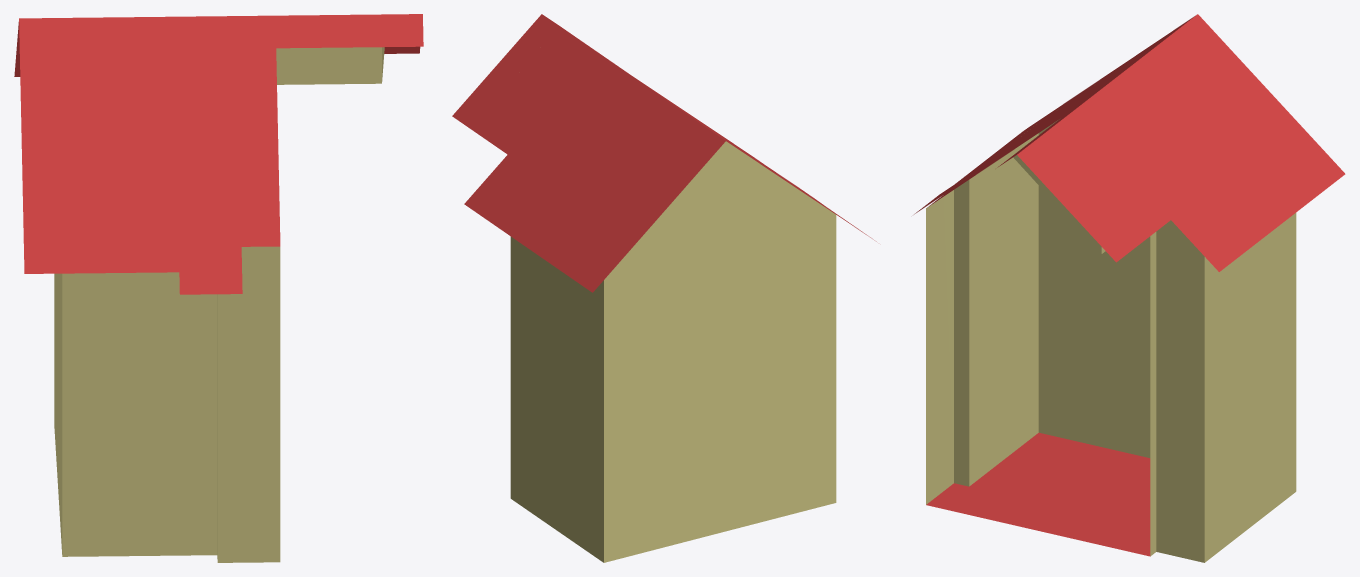
3 renders of one model, left to right at view 1: azimuth 30°, elevation 25°; view 2: azimuth 150°, elevation 25°; view 3: azimuth 270°, elevation 25°, orthographic. The views are drawn at different scales.
Size of the model in its own units: 13.21 by 11.91 by 13.24.
